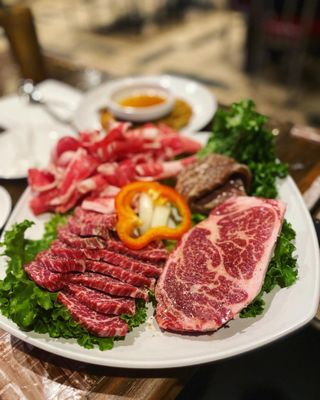curry: (195, 99, 290, 200)
